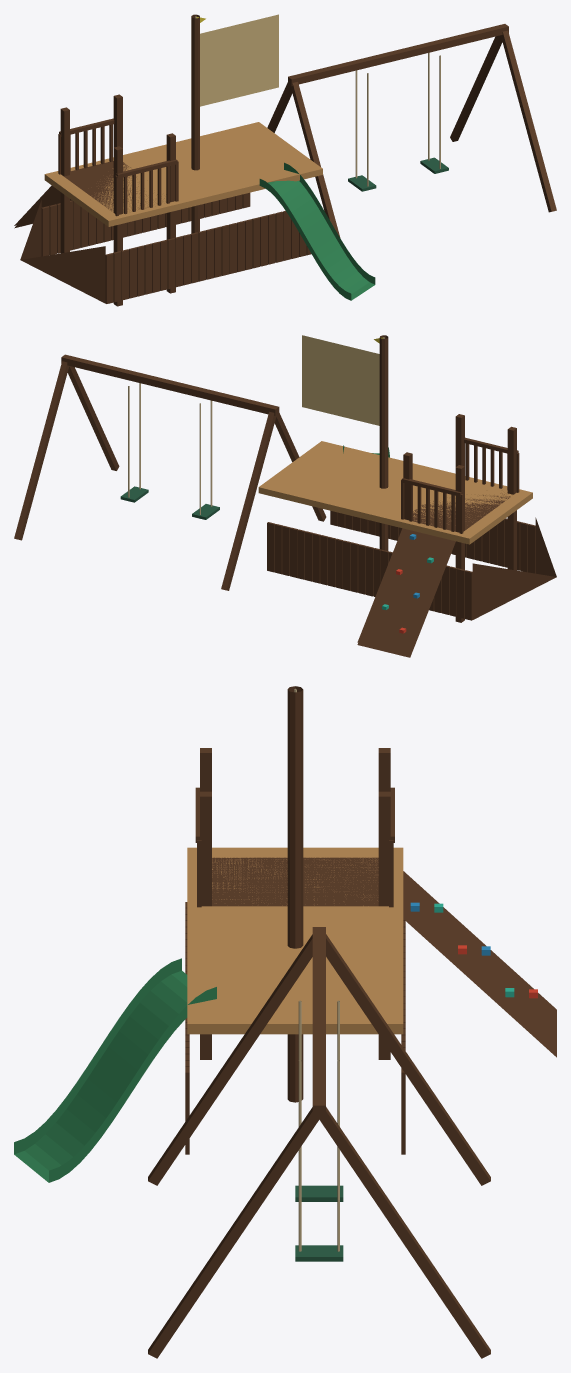
3 views of the same model, one above another, from view 1: azimuth 30°, elevation 25°; view 2: azimuth 150°, elevation 25°; view 3: azimuth 270°, elevation 25° (orthographic). The views are drawn at different scales.
Visible parts, largest first — view 1: SW-E107; view 2: SW-E107; view 3: SW-E107.
Part boxes in pixels (bbox=[...]): SW-E107: bbox=[14, 14, 556, 306]; SW-E107: bbox=[14, 335, 556, 657]; SW-E107: bbox=[14, 686, 556, 1358].
Bounding box in the file's own units: 8.5 × 4 × 4.8.
